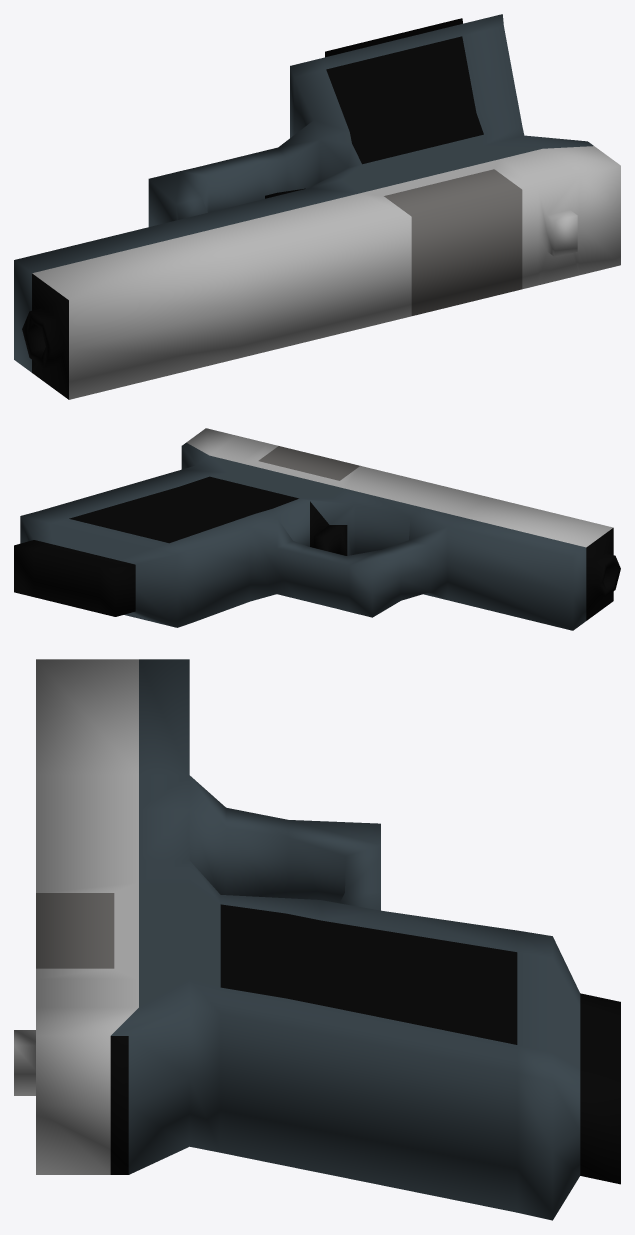
File: char_012_weapon_01_pistol_01_FBX.fbx
3 renders of one model, top to bottom at view 1: azimuth 30°, elevation 25°; view 2: azimuth 150°, elevation 25°; view 3: azimuth 270°, elevation 25°, orthographic. The views are drawn at different scales.
Visible parts, largest first — view 1: weapon_pistol_01; view 2: weapon_pistol_01; view 3: weapon_pistol_01.
Part boxes in pixels (x1=…): weapon_pistol_01: x1=14, y1=14, x2=620, y2=399; weapon_pistol_01: x1=14, y1=428, x2=620, y2=630; weapon_pistol_01: x1=14, y1=659, x2=620, y2=1220.
Size of the model in its own units: 1.06 by 0.1592 by 0.6289.
Materials: 1 (1 with a texture image).
